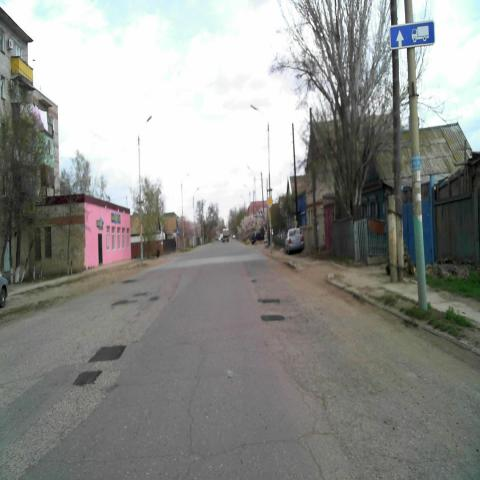6_15_1: (390, 19, 434, 49)
